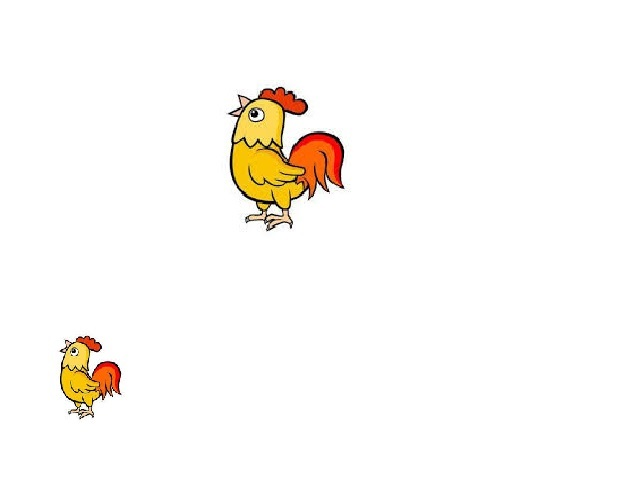crown: (256, 84, 313, 118), (75, 336, 104, 351)
eyes: (246, 107, 267, 126), (71, 347, 79, 354)
feet: (246, 212, 296, 232), (67, 405, 96, 424)
tail: (289, 133, 348, 200), (92, 362, 123, 401)
